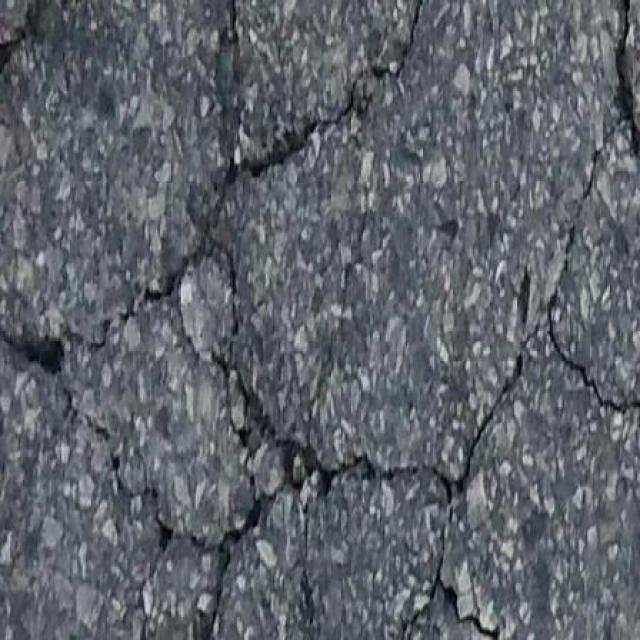Crack: (188, 29, 422, 299), (121, 278, 345, 501), (113, 448, 280, 639), (346, 431, 483, 568), (558, 268, 640, 411), (404, 572, 510, 640), (495, 288, 530, 418), (136, 485, 200, 548), (616, 18, 640, 142), (10, 328, 96, 361), (581, 116, 606, 206), (297, 565, 314, 639)
